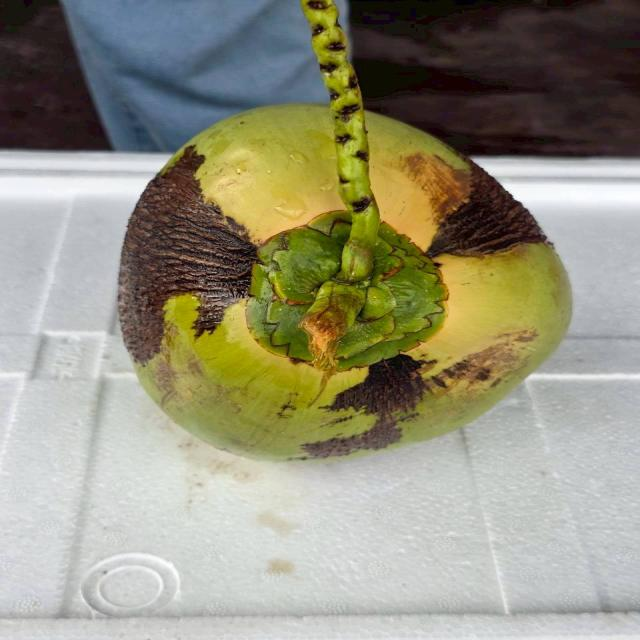coco_1.5: (207, 182, 479, 381)
